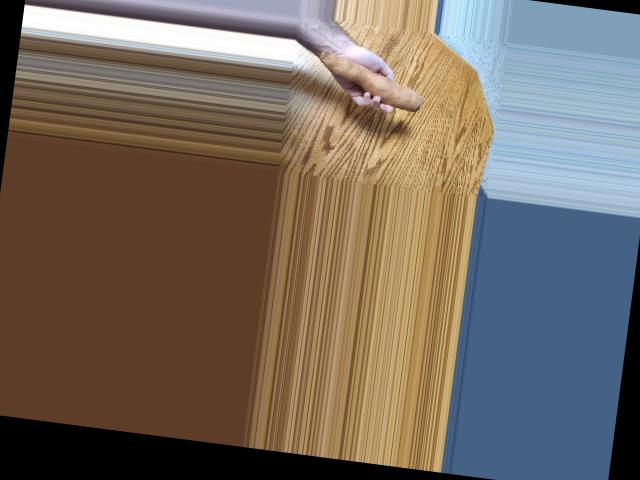sweet_potato: (316, 50, 428, 114)
